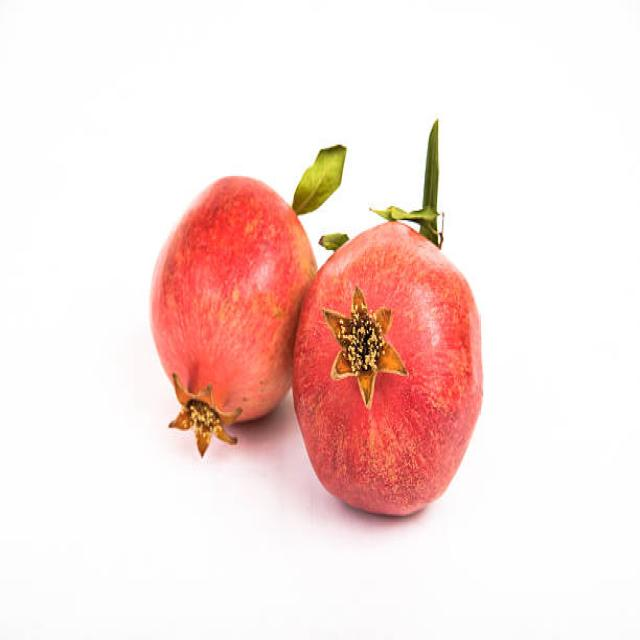Ripe: (297, 212, 487, 518), (146, 173, 298, 453)
